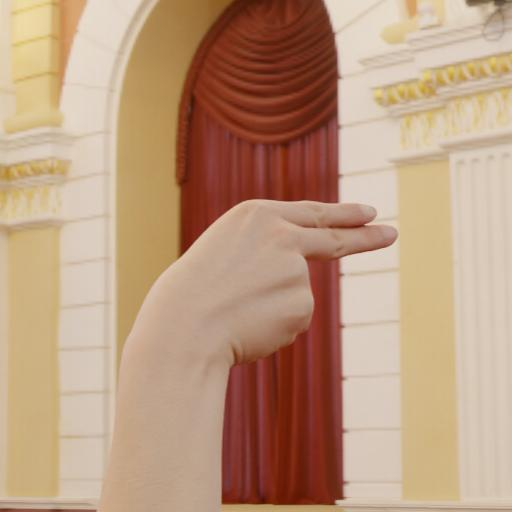H: (139, 169, 403, 395)
